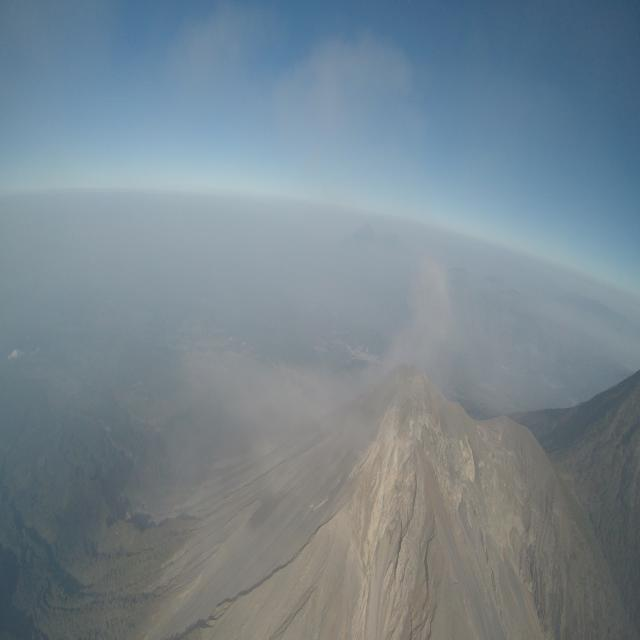Summit: (344, 359, 486, 495)
